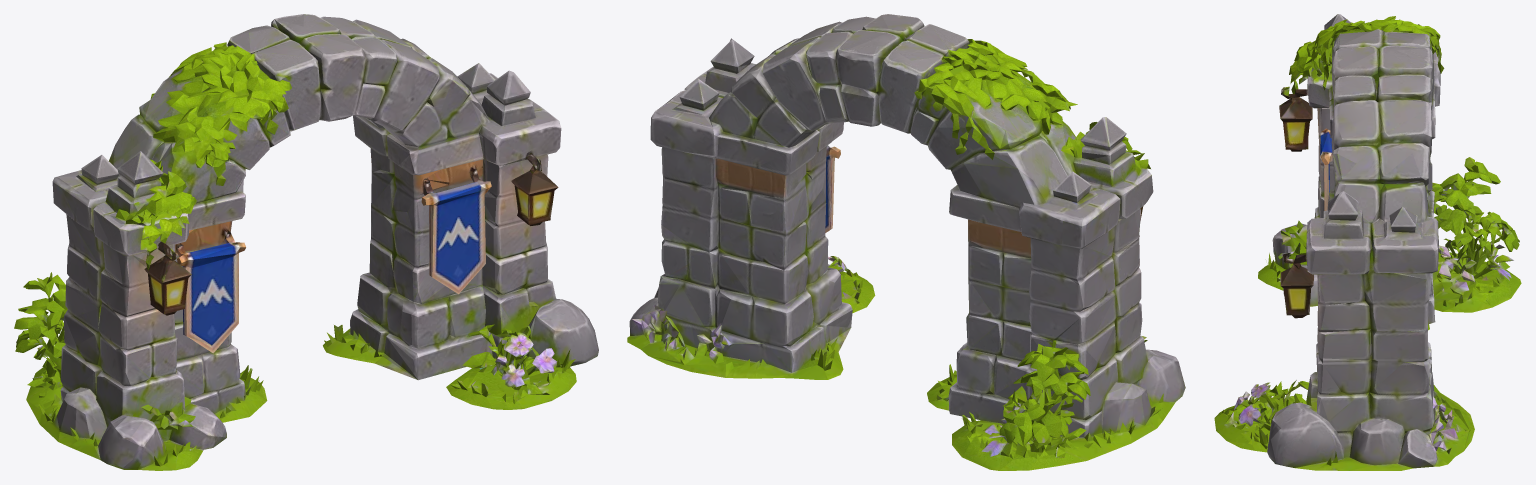
Rendered from stone_arch_gate.glb.
3 renders of one model, left to right at view 1: azimuth 30°, elevation 25°; view 2: azimuth 150°, elevation 25°; view 3: azimuth 270°, elevation 25°, orthographic. The views are drawn at different scales.
Visible parts, largest first — view 1: output_unwrapped; view 2: output_unwrapped; view 3: output_unwrapped.
Part boxes in pixels (x1,y1,x2,y2): output_unwrapped: [14, 14, 598, 470]; output_unwrapped: [627, 14, 1185, 470]; output_unwrapped: [1214, 14, 1521, 470].
Size of what is drawn, in the model's own units: 1.54 by 1 by 0.8879.
1 material, 1 textured.
